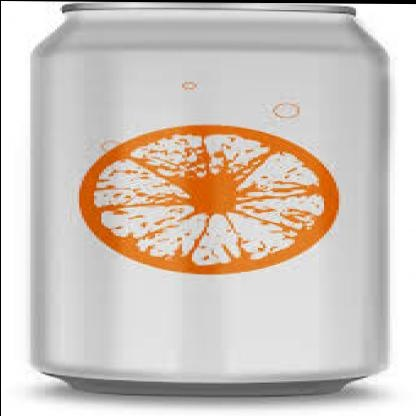trash: (31, 3, 387, 394)
